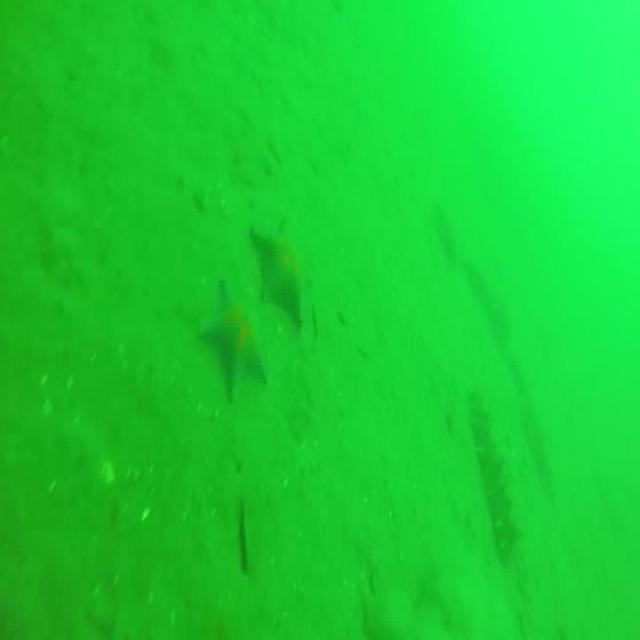holothurian: (464, 272, 557, 501), (471, 392, 525, 558)
starfish: (199, 279, 269, 396), (248, 218, 314, 327)
